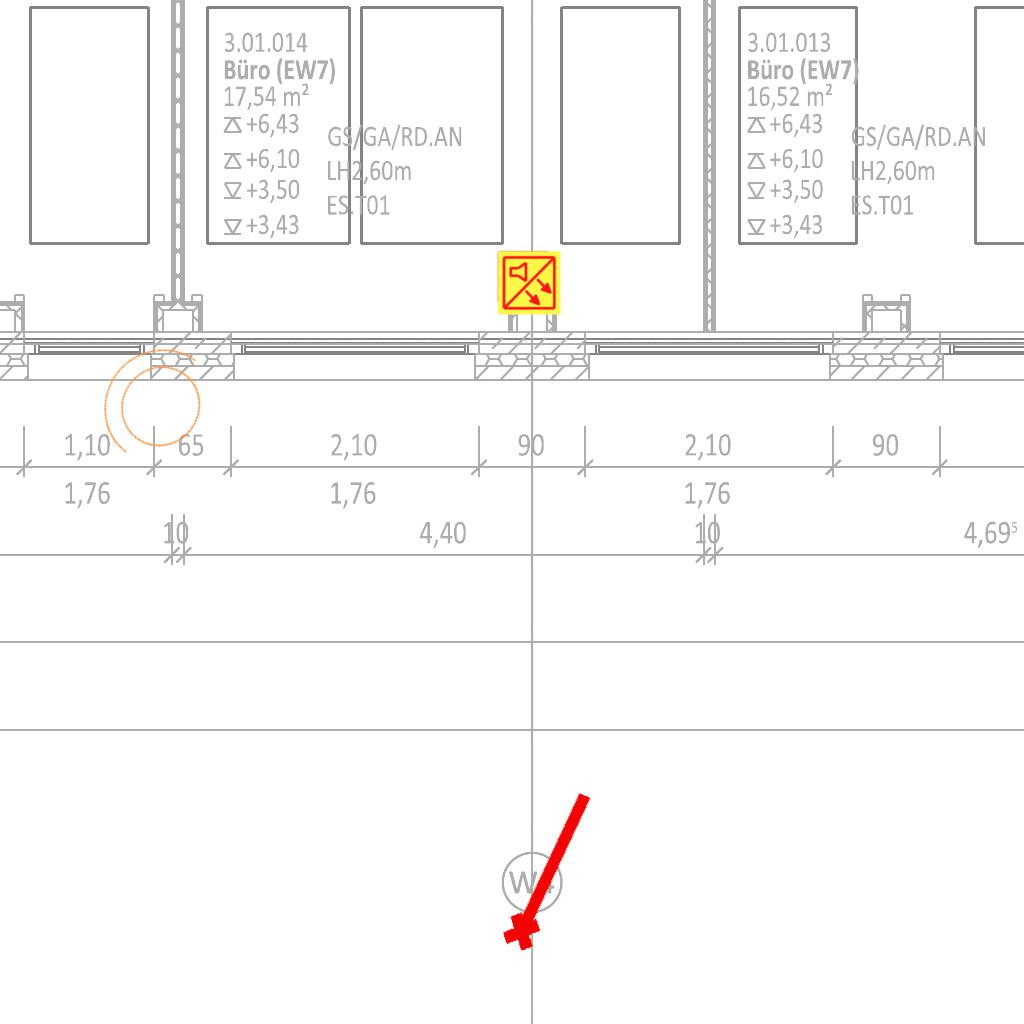ASR_Ansaugoeffnung: (489, 779, 607, 959)
OKW_Multisensormelder_(Kombination_optischer_Rauch-Kahlenmonoxid_Waerme-Melder): (496, 250, 562, 316)
Scheinwerfer_fuer_Alarmbeleuchtung: (70, 319, 240, 493)
